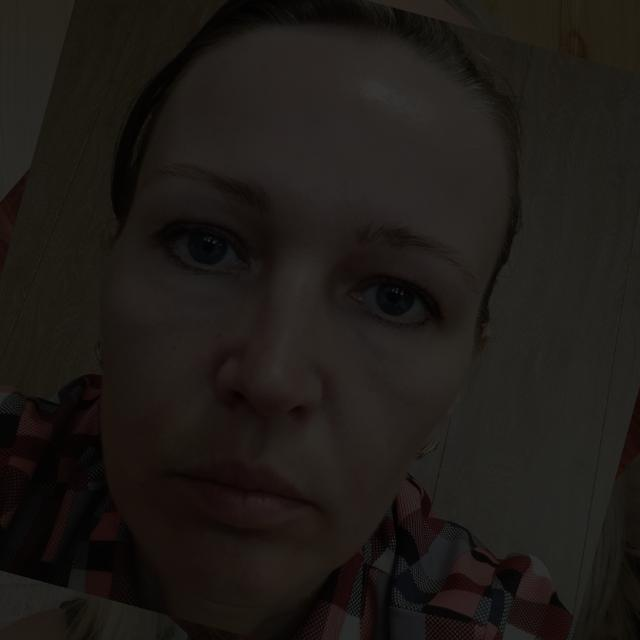Natural: (93, 32, 528, 586)
